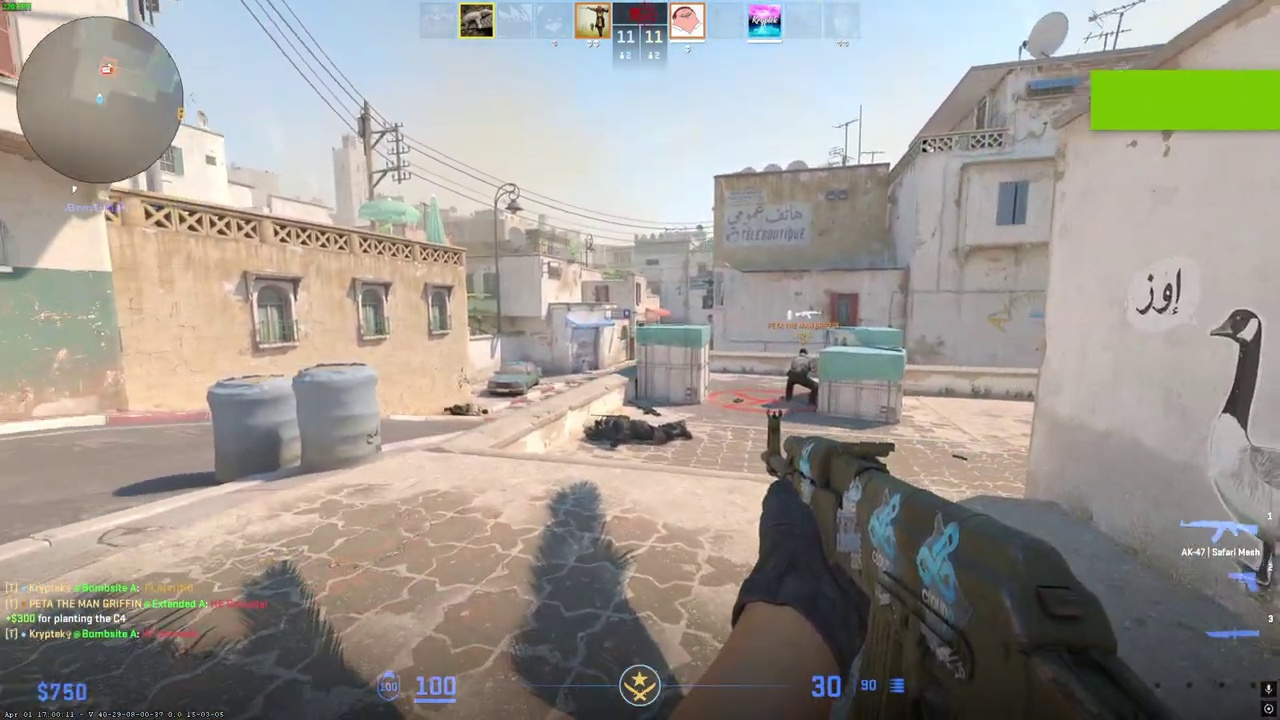Terrorist: (784, 348, 820, 408)
